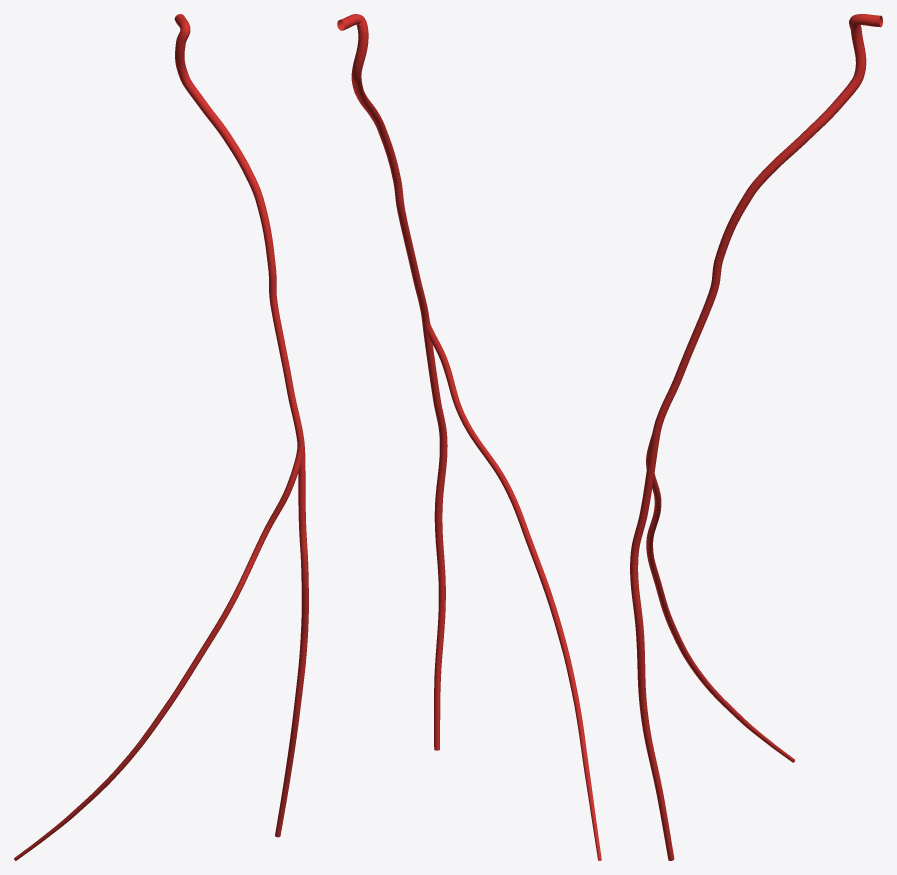
File: circulatorio-internal-thoracic-veins-r.glb
The picture shows the model from 3 angles, left to right: view 1: azimuth 30°, elevation 25°; view 2: azimuth 150°, elevation 25°; view 3: azimuth 270°, elevation 25°; orthographic projection. The views are drawn at different scales.
Visible parts, largest first — view 1: Internal thoracic veins.r, Musculophrenic veins.r, Superior epigastric veins.r; view 2: Musculophrenic veins.r, Superior epigastric veins.r, Internal thoracic veins.r; view 3: Internal thoracic veins.r, Superior epigastric veins.r, Musculophrenic veins.r.
Boxes of the visible parts, x1,y1,x2,y2 form: Internal thoracic veins.r: (174,14,304,444); Musculophrenic veins.r: (14,443,304,860); Superior epigastric veins.r: (275,443,308,837); Musculophrenic veins.r: (424,321,601,860); Superior epigastric veins.r: (422,322,447,750); Internal thoracic veins.r: (337,14,429,323); Internal thoracic veins.r: (653,14,882,431); Superior epigastric veins.r: (630,430,674,860); Musculophrenic veins.r: (646,430,795,762).
Bounding box in the file's own units: 0.0956 × 0.3053 × 0.0817.
